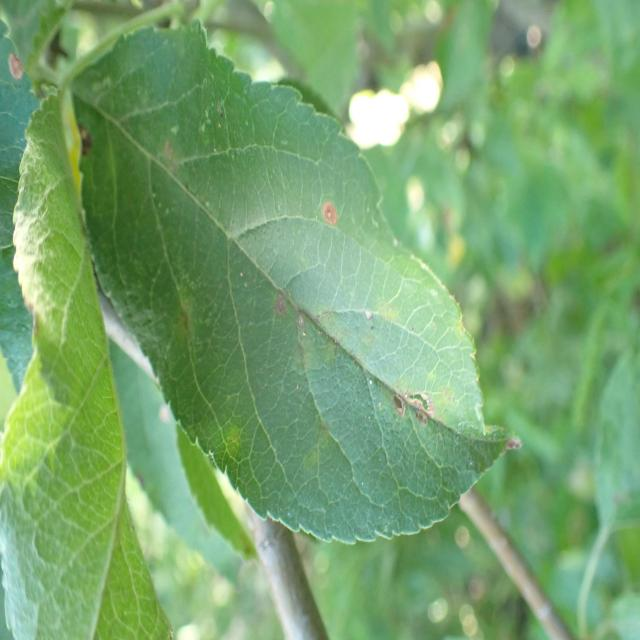frog-eye-leaf-spot: (72, 16, 524, 546)
